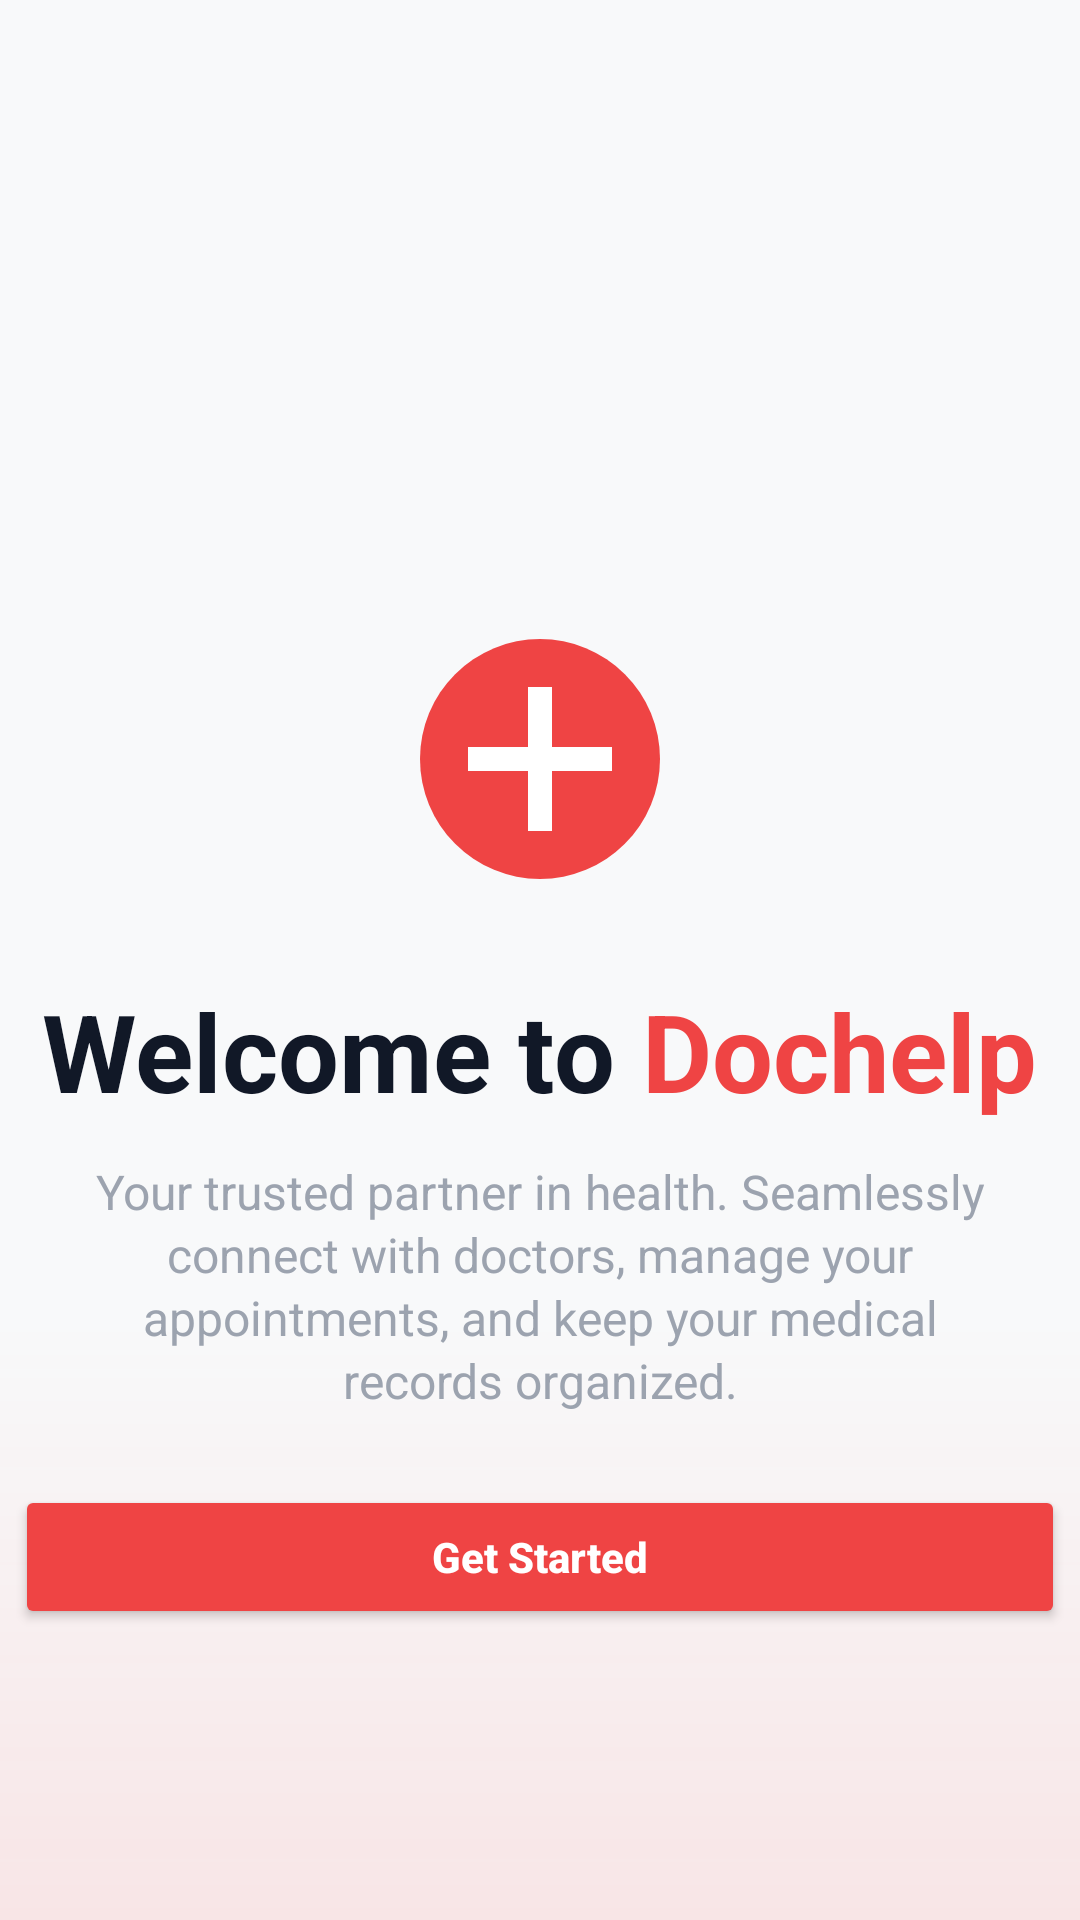

Icons on this 1080x1920 Android screen, each with its box as (x1=x1, y1=y1, x2=x2, y2=y2):
med plus: (x1=420, y1=639, x2=660, y2=879)
